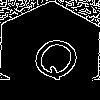Q: (25, 25, 92, 87)
